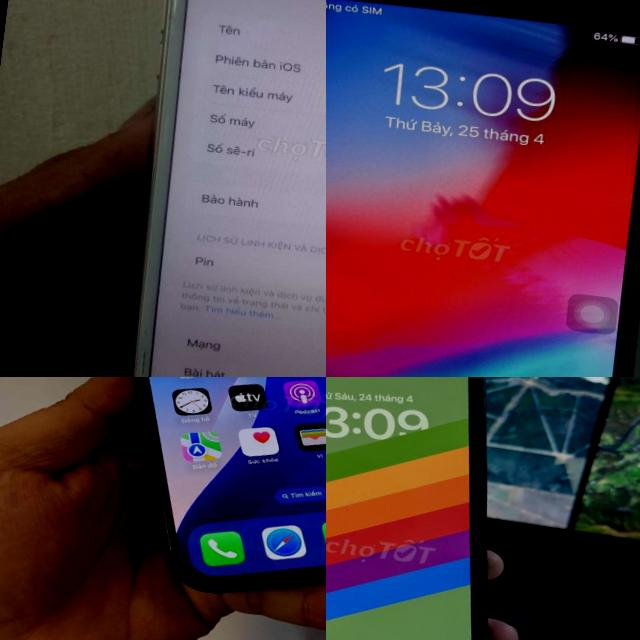gen_11: (326, 377, 550, 640)
gen_15: (65, 377, 326, 622)
gen_6: (326, 0, 640, 377)
gen_7_8: (101, 0, 326, 377)
scratch: (126, 318, 157, 377)
